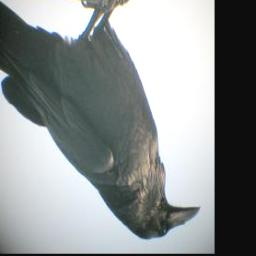Crow: (0, 0, 202, 243)
